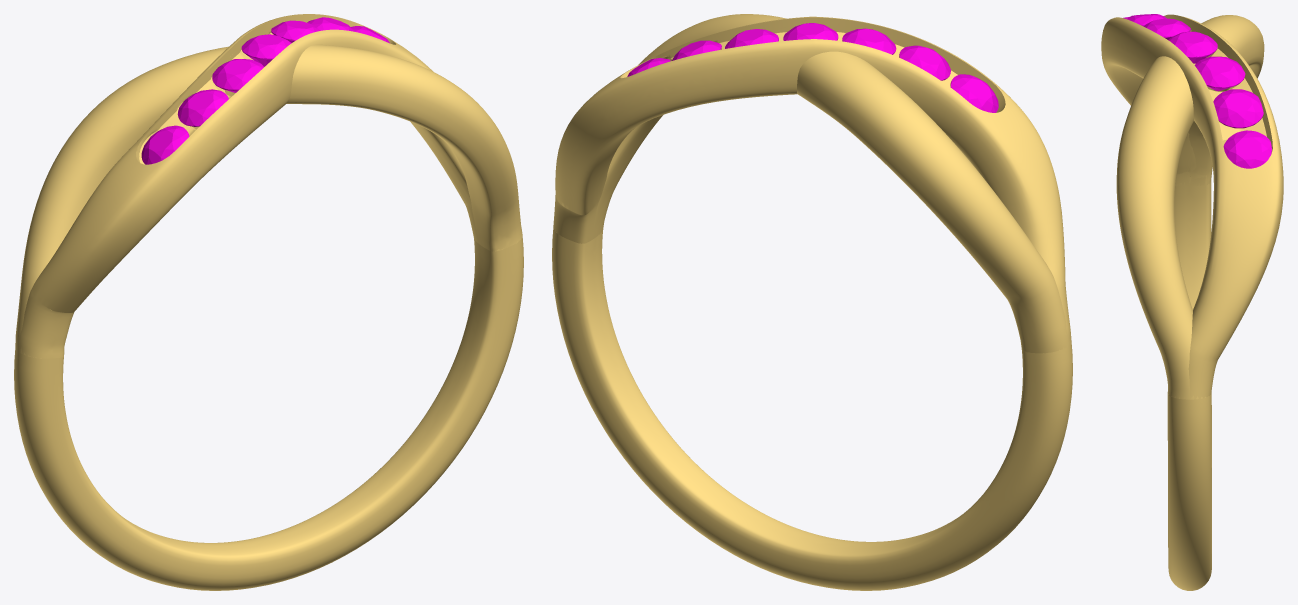
The model's file is DanielleXring.glb.
3 views of the same model, side by side, from view 1: azimuth 30°, elevation 25°; view 2: azimuth 150°, elevation 25°; view 3: azimuth 270°, elevation 25° (orthographic). The views are drawn at different scales.
Visible parts, largest first — view 1: Danielle YG for 3d model, Danielle pink sapphire for 3d model.005, Danielle pink sapphire for 3d model.006, Danielle pink sapphire for 3d model.004, Danielle pink sapphire for 3d model.003, Danielle pink sapphire for 3d model.002; view 2: Danielle YG for 3d model, Danielle pink sapphire for 3d model.006, Danielle pink sapphire for 3d model.005, Danielle pink sapphire for 3d model.004, Danielle pink sapphire for 3d model.003, Danielle pink sapphire for 3d model.002; view 3: Danielle YG for 3d model, Danielle pink sapphire for 3d model.001, Danielle pink sapphire for 3d model, Danielle pink sapphire for 3d model.002, Danielle pink sapphire for 3d model.003, Danielle pink sapphire for 3d model.004, Danielle pink sapphire for 3d model.005.
Part boxes in pixels (box(x1,y1,x2,y2)): Danielle YG for 3d model: box(14, 14, 523, 590); Danielle pink sapphire for 3d model.005: box(177, 89, 228, 126); Danielle pink sapphire for 3d model.006: box(141, 125, 189, 164); Danielle pink sapphire for 3d model.004: box(212, 59, 263, 92); Danielle pink sapphire for 3d model.003: box(241, 34, 291, 66); Danielle pink sapphire for 3d model.002: box(271, 20, 319, 42); Danielle YG for 3d model: box(552, 14, 1072, 590); Danielle pink sapphire for 3d model.006: box(950, 74, 998, 112); Danielle pink sapphire for 3d model.005: box(899, 45, 950, 80); Danielle pink sapphire for 3d model.004: box(842, 28, 896, 54); Danielle pink sapphire for 3d model.003: box(783, 23, 838, 40); Danielle pink sapphire for 3d model.002: box(725, 29, 778, 48); Danielle YG for 3d model: box(1101, 14, 1283, 590); Danielle pink sapphire for 3d model.001: box(1213, 89, 1263, 128); Danielle pink sapphire for 3d model: box(1223, 130, 1271, 168); Danielle pink sapphire for 3d model.002: box(1194, 56, 1245, 91); Danielle pink sapphire for 3d model.003: box(1168, 31, 1217, 63); Danielle pink sapphire for 3d model.004: box(1144, 18, 1190, 39); Danielle pink sapphire for 3d model.005: box(1127, 14, 1166, 26).
Bounding box in the file's own units: 19.47 × 20.04 × 6.27.
